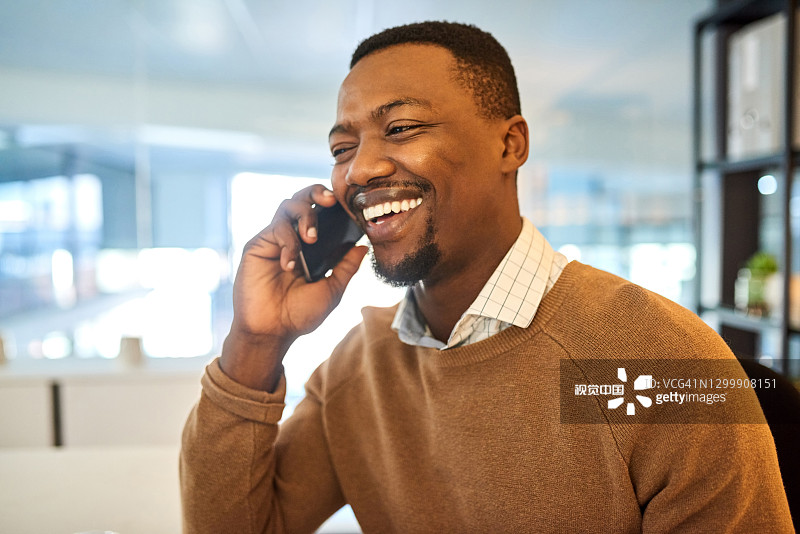calling: (207, 168, 379, 369)
